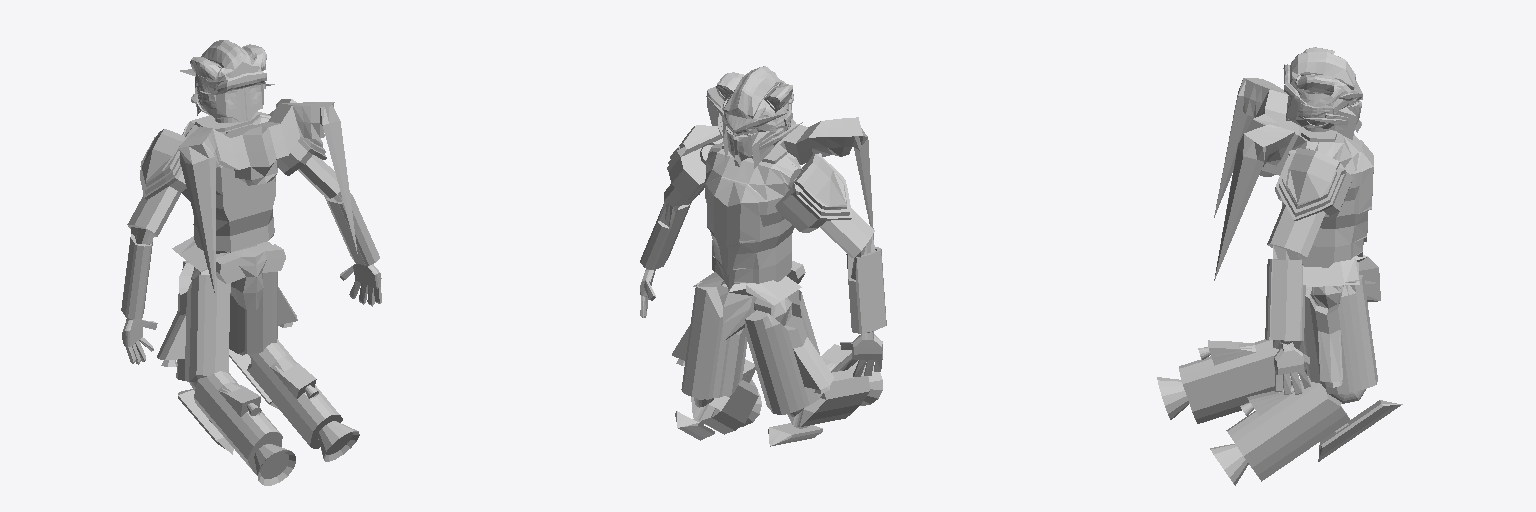
The model's file is walk5.obj.
3 renders of one model, left to right at view 1: azimuth 30°, elevation 25°; view 2: azimuth 150°, elevation 25°; view 3: azimuth 270°, elevation 25°, orthographic.
Visible parts, largest first — view 1: Bottom_Half_Cube.008; view 2: Bottom_Half_Cube.008; view 3: Bottom_Half_Cube.008.
Part boxes in pixels (bbox=[...]): Bottom_Half_Cube.008: bbox=[121, 40, 381, 485]; Bottom_Half_Cube.008: bbox=[640, 66, 886, 446]; Bottom_Half_Cube.008: bbox=[1157, 47, 1402, 485].
Bounding box in the file's own units: 1.14 × 1.76 × 0.9721.